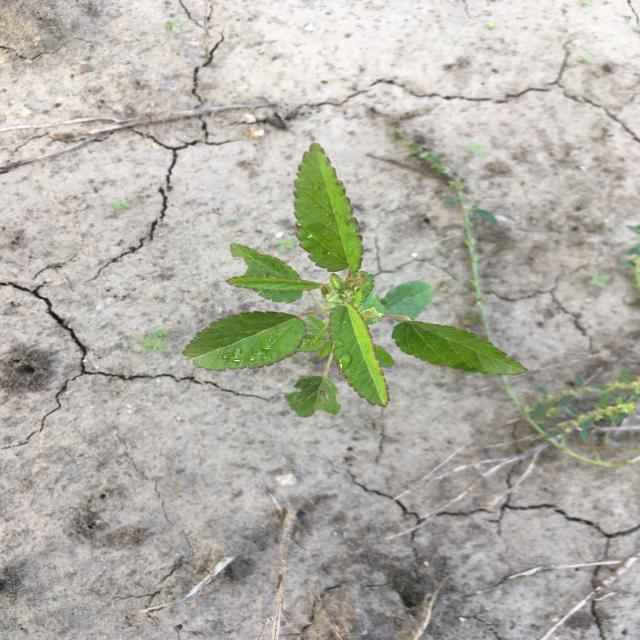PricklySida: (180, 142, 531, 420)
